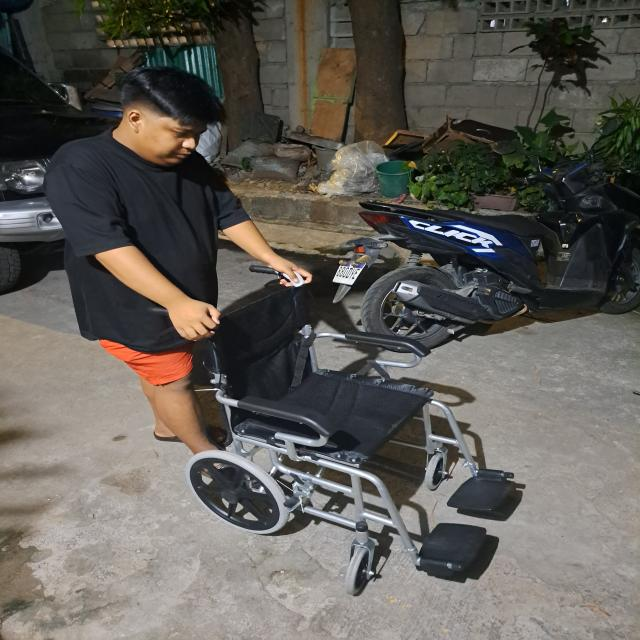wheelchairs: (159, 264, 535, 594)
